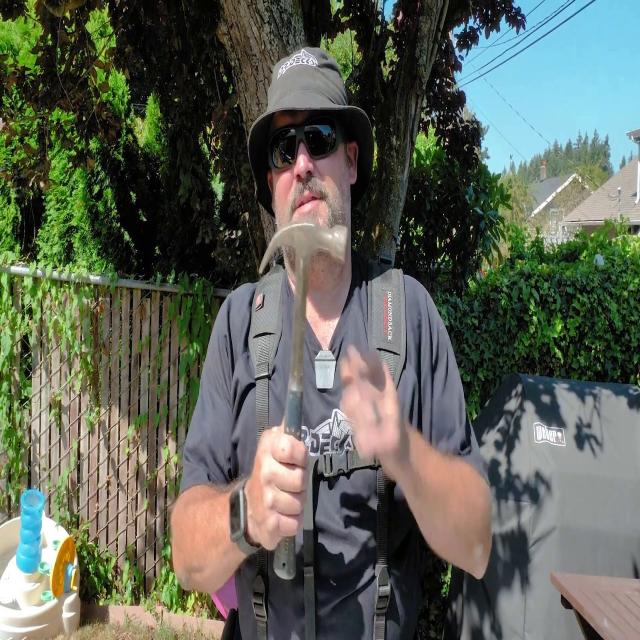hammer: (260, 222, 349, 582)
